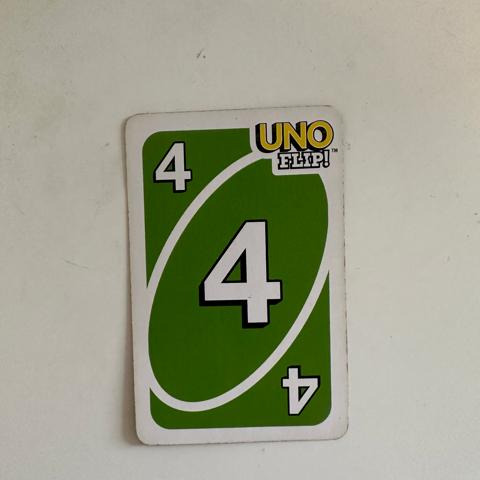lgreen-4: (137, 123, 206, 213)
